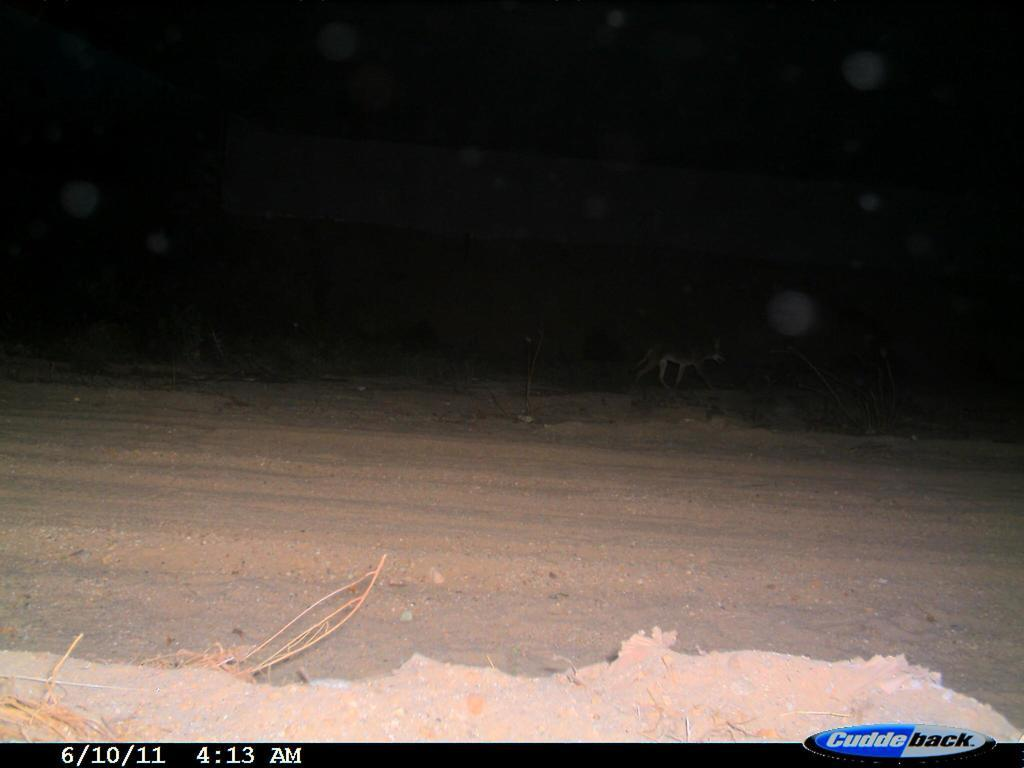coyote: (626, 326, 740, 400)
